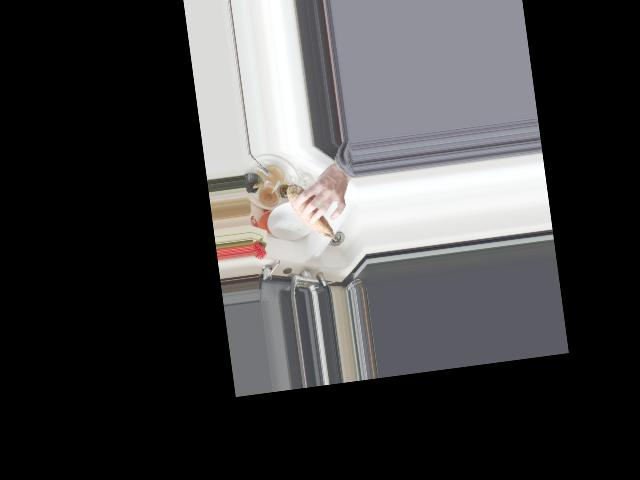sweet_potato: (285, 180, 337, 246)
